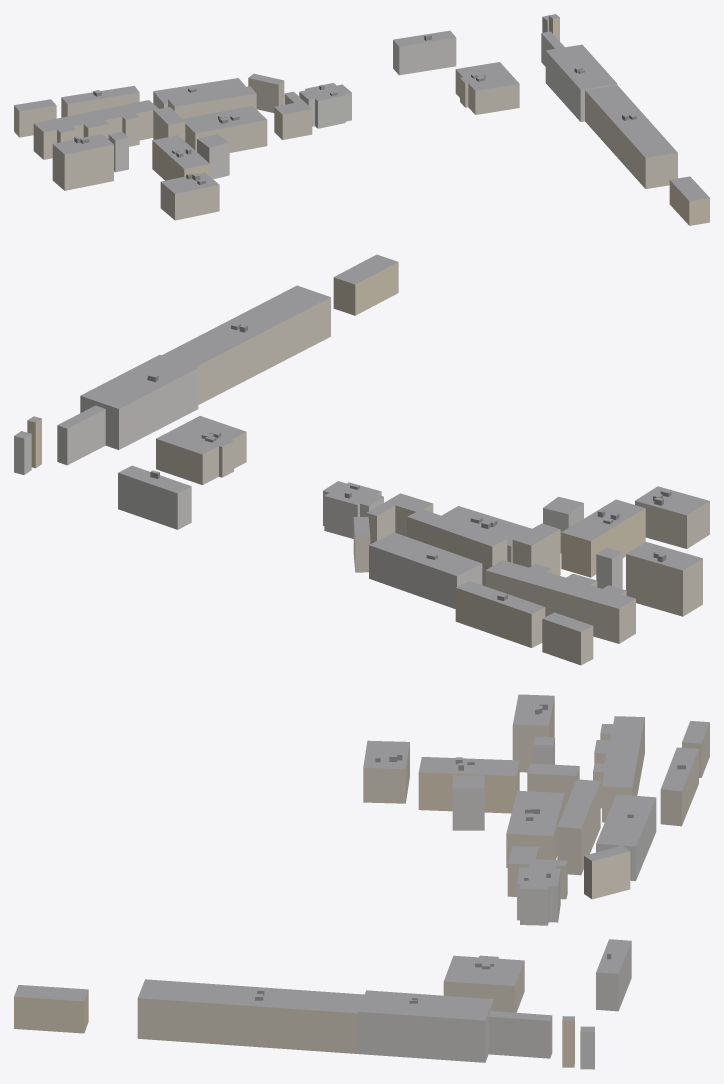
File: building_1_-4.glb
The picture shows the model from 3 angles, top to bottom: view 1: azimuth 30°, elevation 25°; view 2: azimuth 150°, elevation 25°; view 3: azimuth 270°, elevation 25°; orthographic projection. The views are drawn at different scales.
Visible parts, largest first — view 1: concrete_warm, roof, concrete_light, sandstone; view 2: concrete_warm, roof, concrete_light, sandstone; view 3: roof, concrete_warm, concrete_light, sandstone.
Boxes of the visible parts, x1,y1,x2,y2 form: concrete_warm: (14,69,677,220); roof: (14,14,709,201); concrete_light: (108,17,617,179); sandstone: (152,16,709,225); concrete_warm: (156,297,709,665); roof: (14,254,709,631); concrete_light: (14,368,622,608); sandstone: (27,262,645,577); roof: (14,694,709,1031); concrete_warm: (137,697,709,1053); concrete_light: (358,738,656,1069); sandstone: (14,762,574,1067).
Bounding box in the file's own units: 226 × 17.03 × 203.
